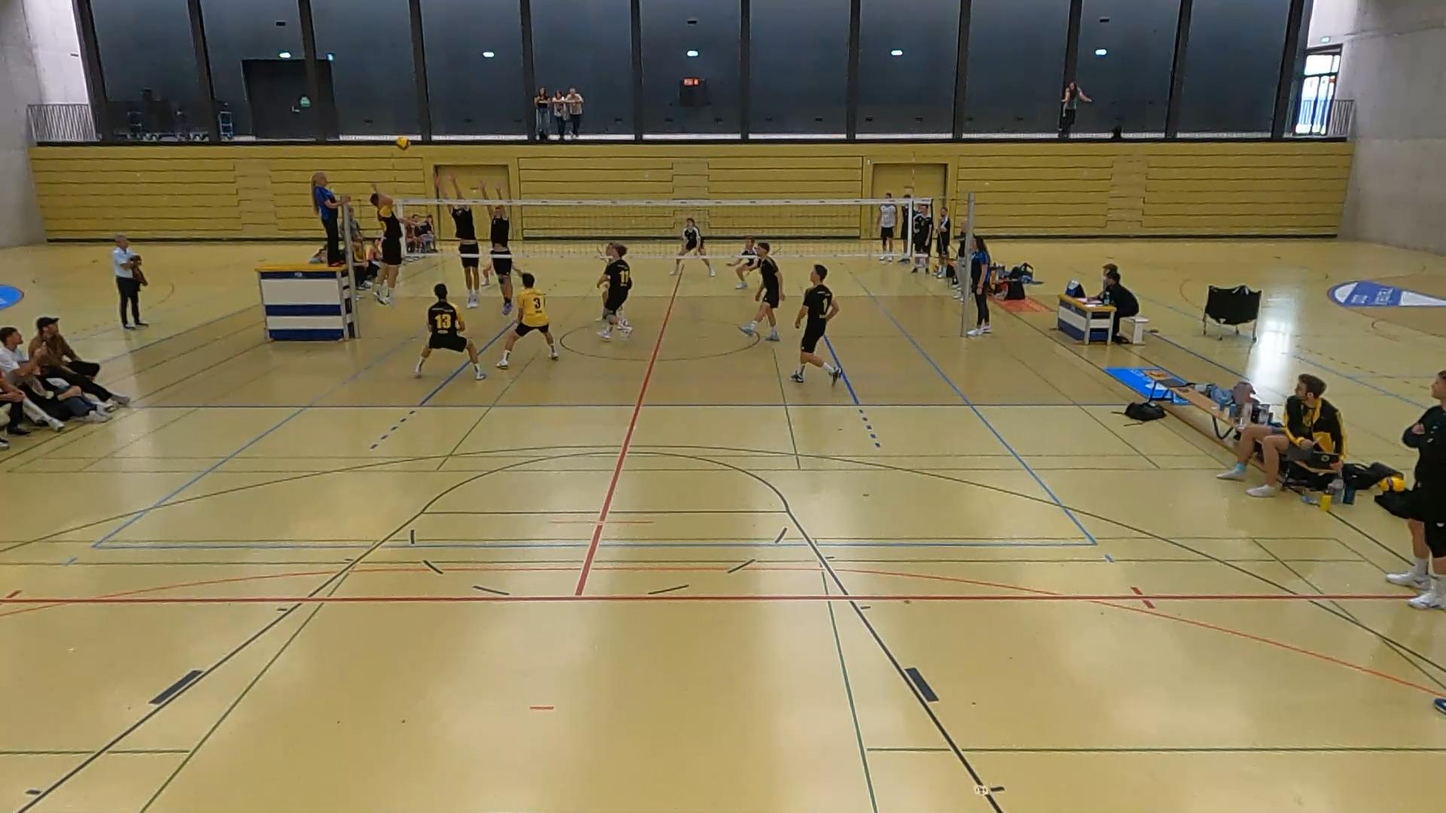Attack: (350, 186, 420, 312)
Block: (473, 181, 527, 324), (432, 169, 482, 309)
Player: (414, 283, 485, 379), (790, 264, 841, 382), (496, 272, 558, 369), (739, 242, 783, 341), (597, 242, 631, 340), (670, 218, 715, 276), (732, 236, 757, 289)
ball: (394, 134, 410, 154)
